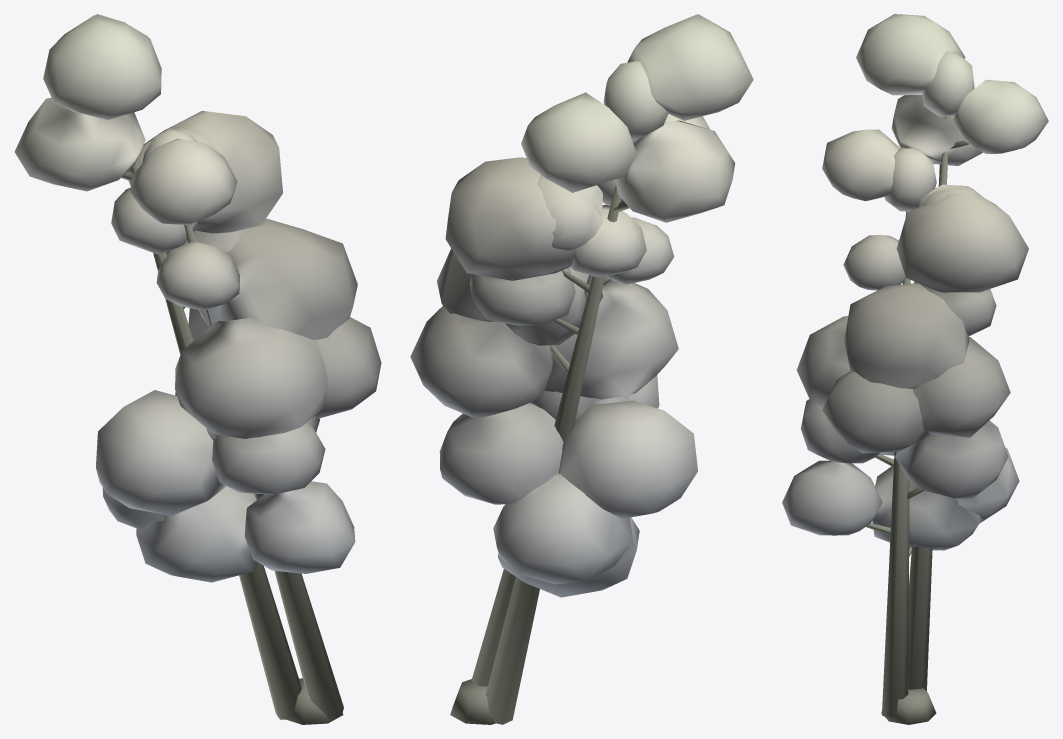
3 views of the same model, side by side, from view 1: azimuth 30°, elevation 25°; view 2: azimuth 150°, elevation 25°; view 3: azimuth 270°, elevation 25° (orthographic). The views are drawn at different scales.
Visible parts, largest first — view 1: crown, trunk; view 2: crown, trunk; view 3: crown, trunk.
Part boxes in pixels (x1,y1,x2,y2): crown: (14,14,381,582); trunk: (121,160,343,724); crown: (410,14,753,597); trunk: (450,185,629,724); crown: (782,14,1048,550); trunk: (866,116,969,724).
Bounding box in the file's own units: 7.35 × 16.81 × 6.62.
